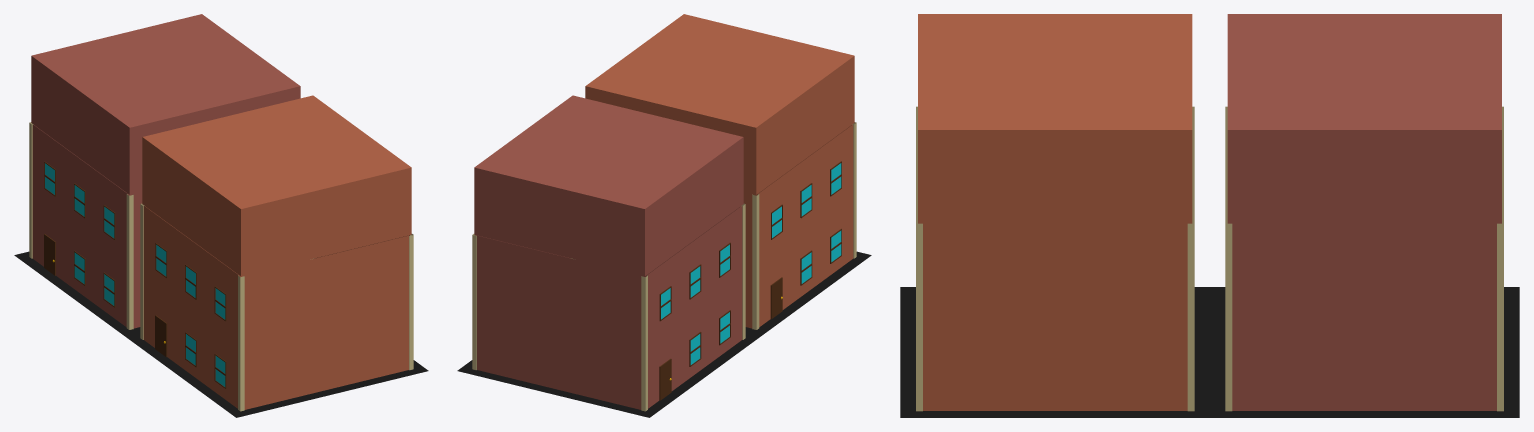
Rendered from Buildings1.fbx.
3 views of the same model, side by side, from view 1: azimuth 30°, elevation 25°; view 2: azimuth 150°, elevation 25°; view 3: azimuth 270°, elevation 25° (orthographic). The views are drawn at different scales.
Parts seen in each view (by area): view 1: Buildings 1.001; view 2: Buildings 1.001; view 3: Buildings 1.001.
Part boxes in pixels (x1,y1,x2,y2): Buildings 1.001: (14, 14, 428, 417); Buildings 1.001: (457, 14, 871, 417); Buildings 1.001: (900, 14, 1519, 417).
Bounding box in the file's own units: 3000 × 1500 × 1500.
